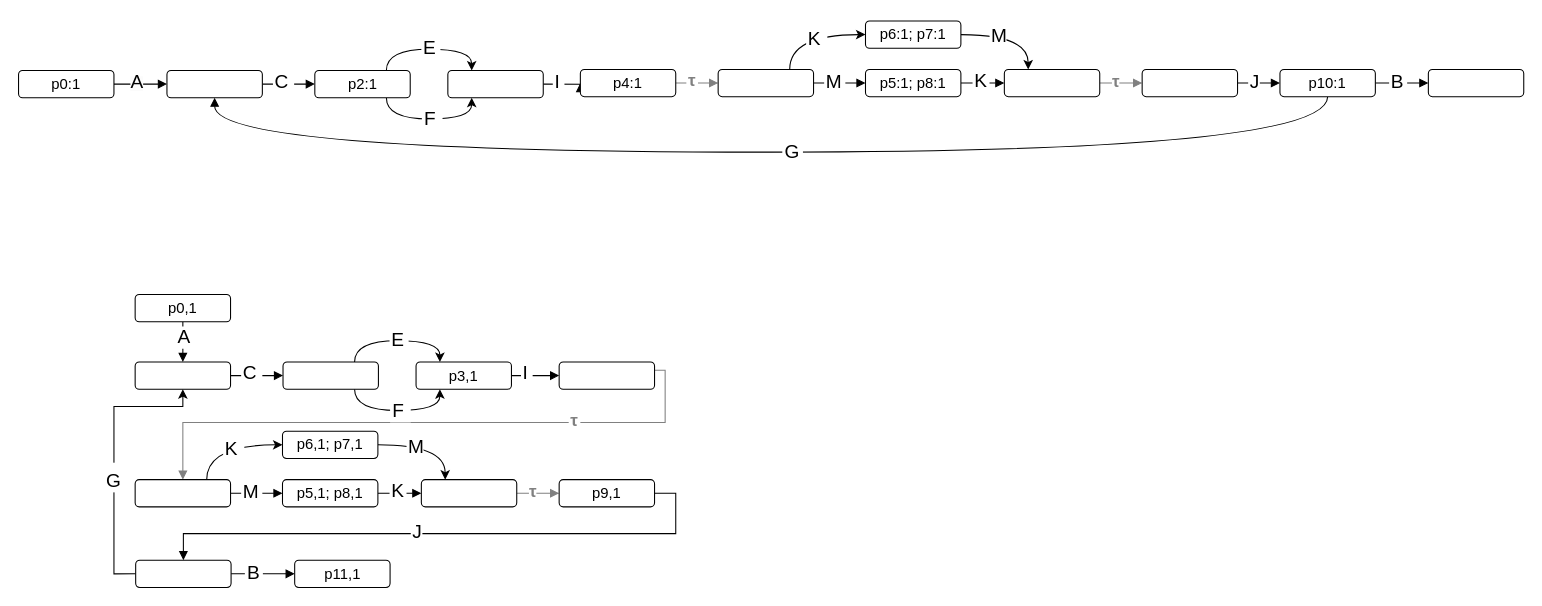
Image size: 1542x606. Some labels were removed from this diagram. The shapes that lost their labels are listed below. From the top down, each one's centre as x and y in pixels, then its label:
At (214,83): "p1:1".
At (495,83): "p3:1".
At (765,82): "p5:1; p6:1".
At (1051,82): "p7:1; p8:1".
At (1189,82): "p9:1".
At (1475,82): "p11:1".
At (182,375): "p1,1".
At (330,375): "p2,1".
At (606,375): "p4,1".
At (182,493): "p5,1; p6,1".
At (468,493): "p7,1; p8,1".
At (183,573): "p10,1".
